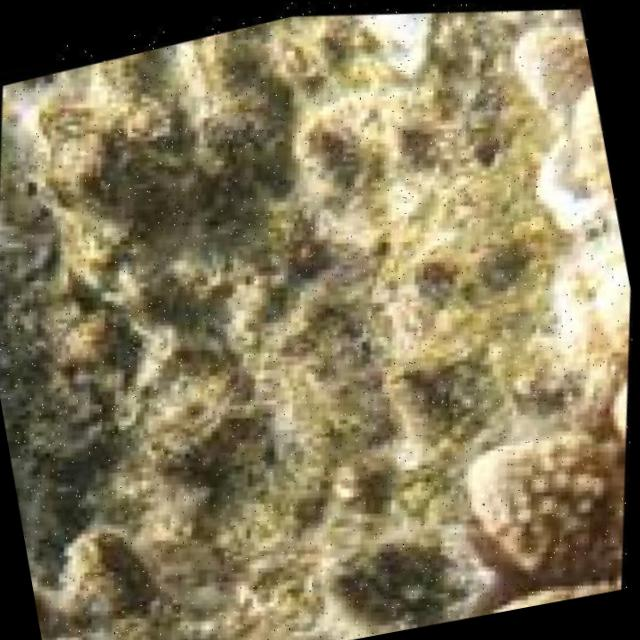Dead Coral: (18, 63, 494, 592)
